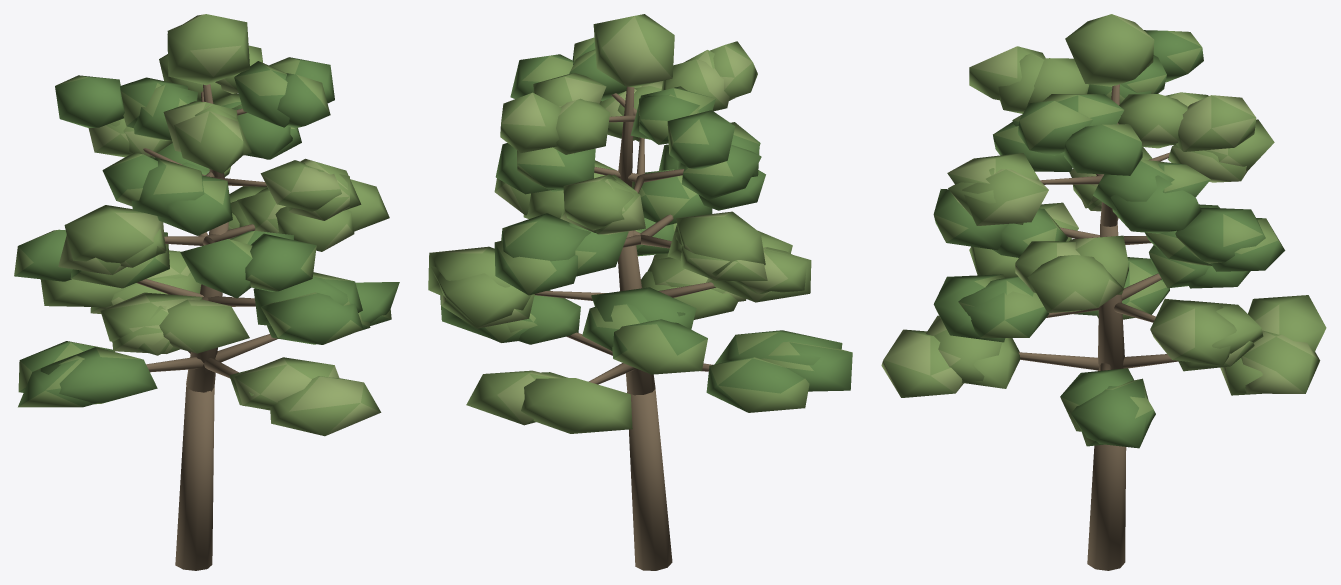
The model's file is TreePine.fbx.
The picture shows the model from 3 angles, left to right: view 1: azimuth 30°, elevation 25°; view 2: azimuth 150°, elevation 25°; view 3: azimuth 270°, elevation 25°; orthographic projection. The views are drawn at different scales.
Parts seen in each view (by area): view 1: Varied leaf crown.025, Varied leaf crown.028, Bent pine trunk; view 2: Varied leaf crown.025, Varied leaf crown.028, Bent pine trunk; view 3: Varied leaf crown.028, Varied leaf crown.025, Bent pine trunk.
Part boxes in pixels (x1,y1,x2,y2): Varied leaf crown.025: (14,57,399,407); Varied leaf crown.028: (40,14,389,436); Bent pine trunk: (137,84,278,570); Varied leaf crown.025: (440,37,852,412); Varied leaf crown.028: (428,14,811,433); Bent pine trunk: (534,86,716,570); Varied leaf crown.028: (881,14,1326,397); Varied leaf crown.025: (933,30,1285,448); Bent pine trunk: (1018,84,1178,570).
Size of the model in its own units: 625 by 822 by 595.
